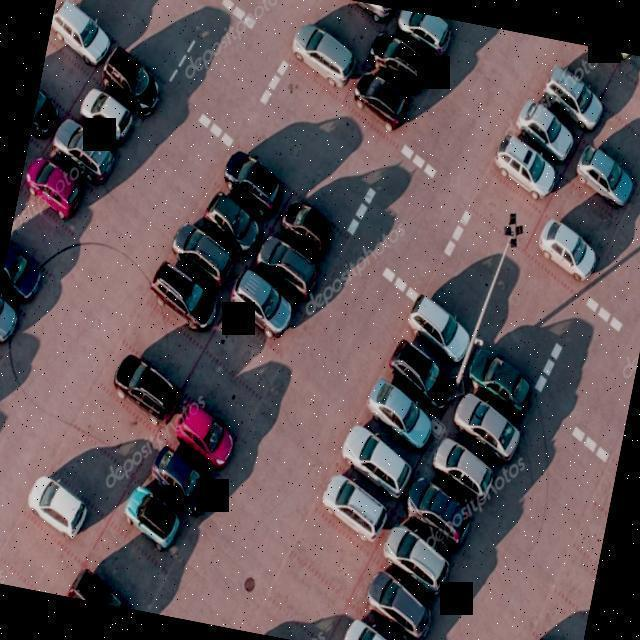space-empty: (72, 380, 166, 476), (88, 516, 176, 610), (46, 427, 136, 518), (124, 301, 212, 388), (289, 509, 375, 598), (0, 515, 90, 598), (543, 174, 623, 254), (266, 558, 346, 634), (184, 363, 260, 440), (209, 302, 281, 382), (5, 188, 72, 266), (469, 174, 543, 237), (41, 34, 97, 100), (551, 40, 621, 91), (593, 119, 640, 176)
space-occupied: (19, 467, 108, 565), (145, 255, 227, 342), (103, 342, 185, 428), (378, 332, 462, 413), (395, 296, 480, 374), (113, 477, 189, 564), (332, 424, 414, 502), (374, 521, 454, 600), (312, 469, 392, 548), (166, 215, 244, 295), (215, 150, 295, 228), (163, 395, 238, 477), (225, 262, 300, 344), (458, 353, 540, 427), (527, 215, 602, 295), (249, 229, 325, 307), (20, 155, 94, 235), (356, 378, 436, 452), (274, 192, 348, 272), (341, 64, 416, 141), (192, 184, 266, 262), (444, 390, 524, 462), (398, 475, 475, 549), (43, 1, 118, 76), (285, 24, 363, 96), (357, 564, 432, 638), (488, 132, 566, 203), (566, 143, 640, 217), (145, 443, 216, 518), (95, 45, 166, 119), (43, 118, 118, 188), (426, 438, 500, 507), (71, 87, 143, 154), (532, 66, 607, 128), (368, 30, 440, 92), (512, 100, 583, 160), (0, 244, 45, 314), (391, 8, 456, 52), (28, 86, 62, 148), (336, 615, 418, 640), (0, 280, 25, 353), (329, 0, 396, 26)
